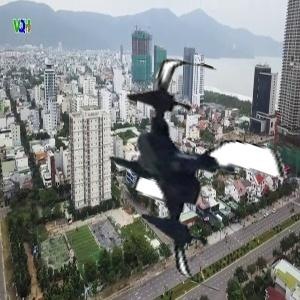drone: (82, 63, 296, 277)
